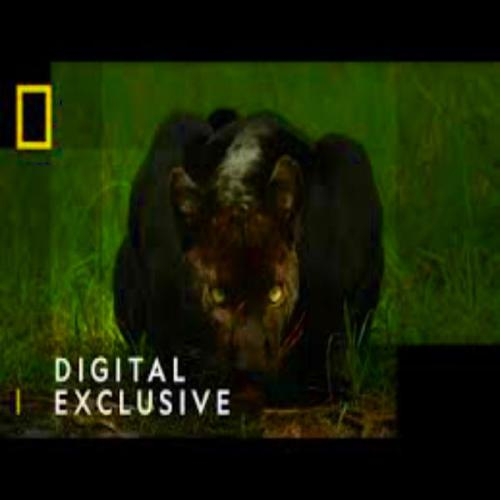panther-endangered: (111, 105, 388, 404)
